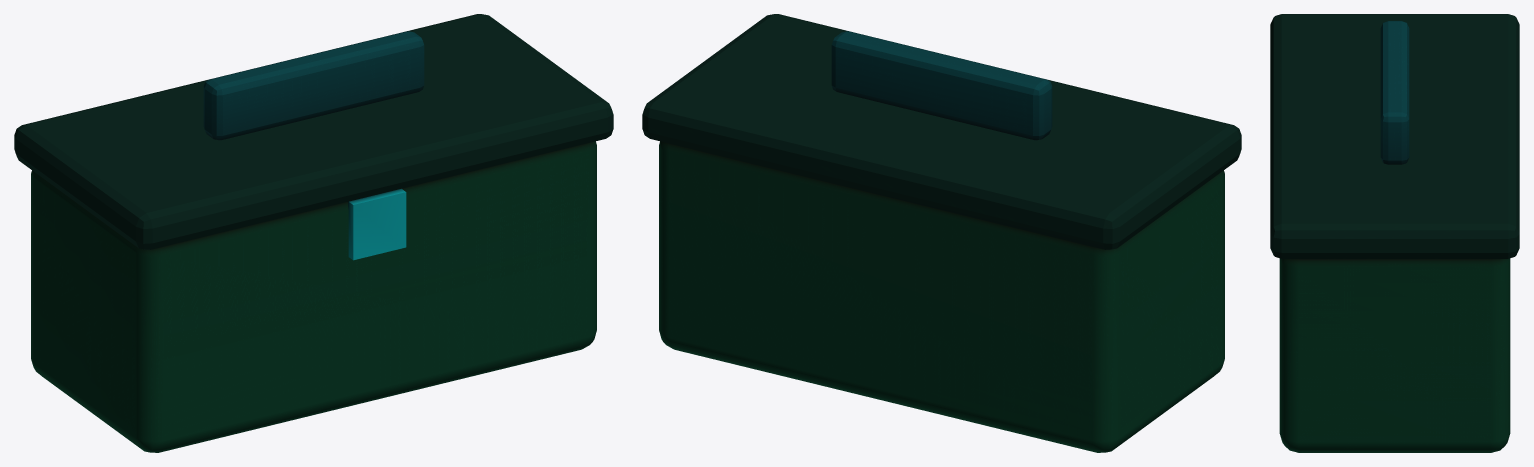
The model's file is prop_toolbox.glb.
3 views of the same model, side by side, from view 1: azimuth 30°, elevation 25°; view 2: azimuth 150°, elevation 25°; view 3: azimuth 270°, elevation 25° (orthographic). The views are drawn at different scales.
Visible parts, largest first — view 1: prop_toolbox; view 2: prop_toolbox; view 3: prop_toolbox.
Boxes of the visible parts, box(x1,y1,x2,y2) form: prop_toolbox: box(14, 14, 613, 452); prop_toolbox: box(642, 14, 1241, 452); prop_toolbox: box(1270, 14, 1519, 452).
Size of the model in its own units: 0.27 by 0.165 by 0.13.
1 material, 1 textured.
